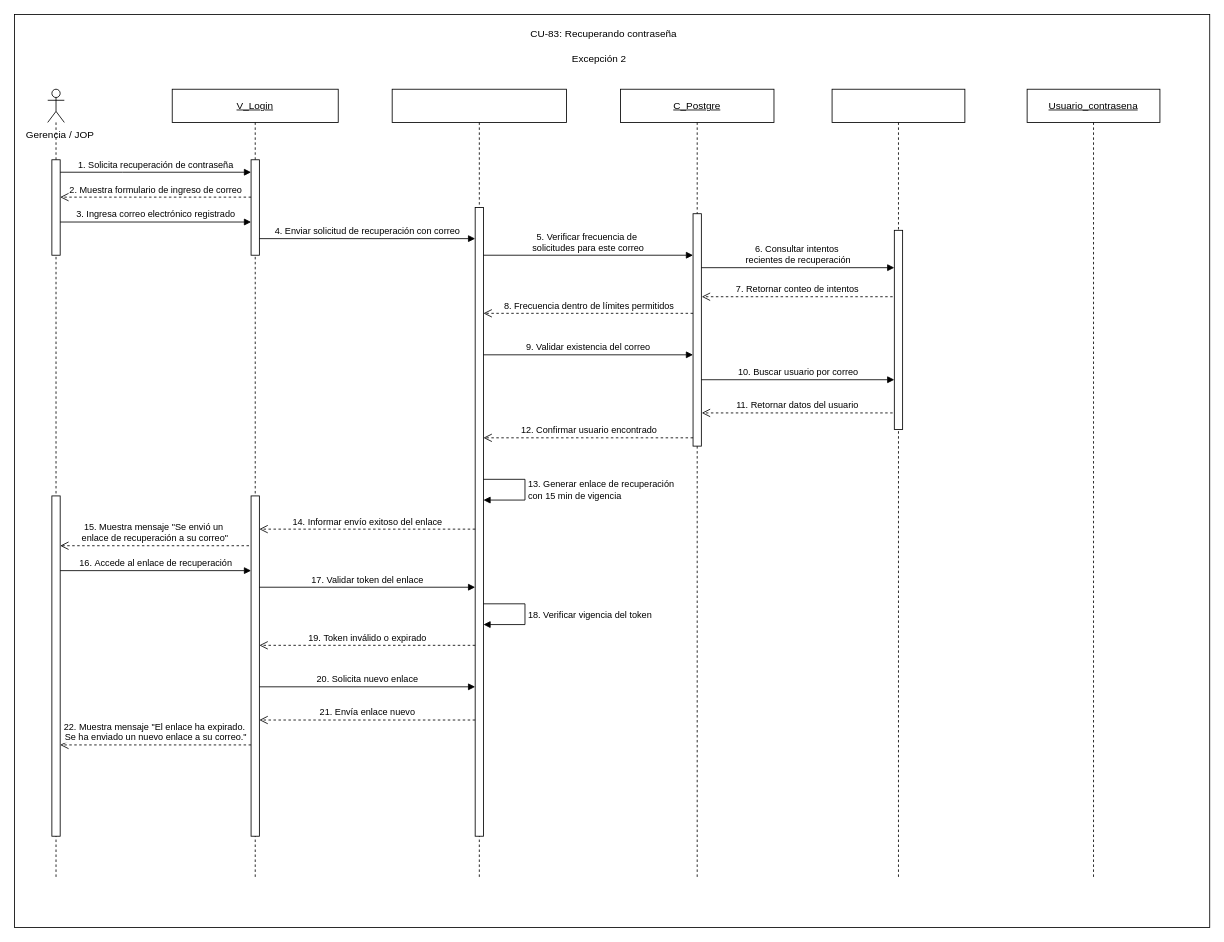
This 1224x942 diagram has some shape labels left out. Each missing label, with the box of its shape:
C_auth: (391, 88, 566, 878)
Usuario: (831, 88, 965, 878)
